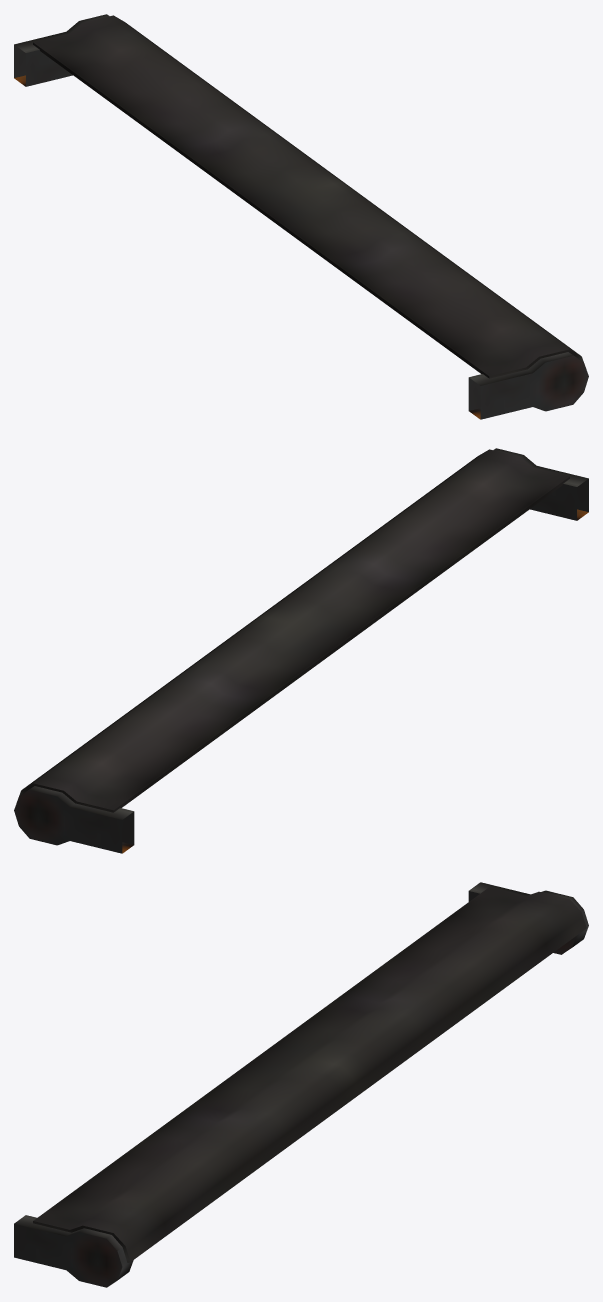
The model's file is Light_long_2.FBX.
The picture shows the model from 3 angles, top to bottom: view 1: azimuth 30°, elevation 25°; view 2: azimuth 150°, elevation 25°; view 3: azimuth 330°, elevation 25°; orthographic projection.
Visible parts, largest first — view 1: Light_2_base; view 2: Light_2_base; view 3: Light_2_base.
Boxes of the visible parts, x1,y1,x2,y2 form: Light_2_base: [14, 14, 588, 419]; Light_2_base: [14, 448, 588, 853]; Light_2_base: [14, 882, 588, 1287].
Size of the model in its own units: 36.66 by 16.13 by 266.
